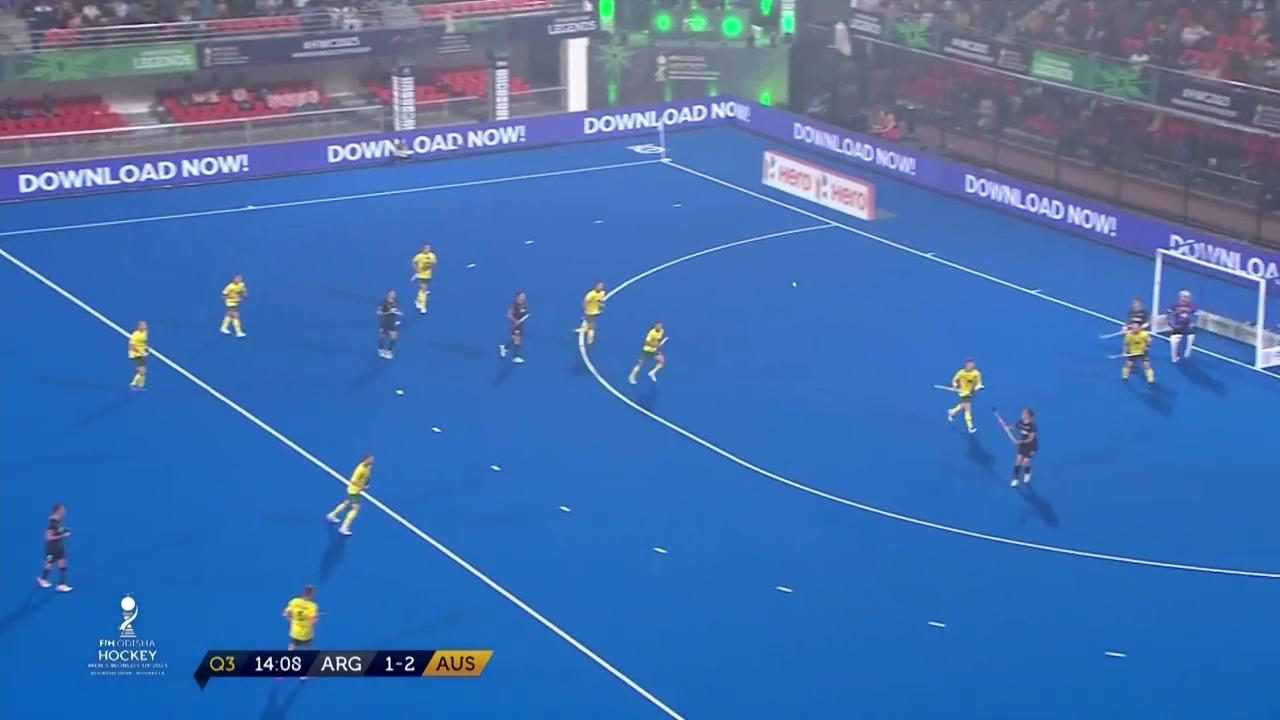ball: (786, 272, 805, 293)
